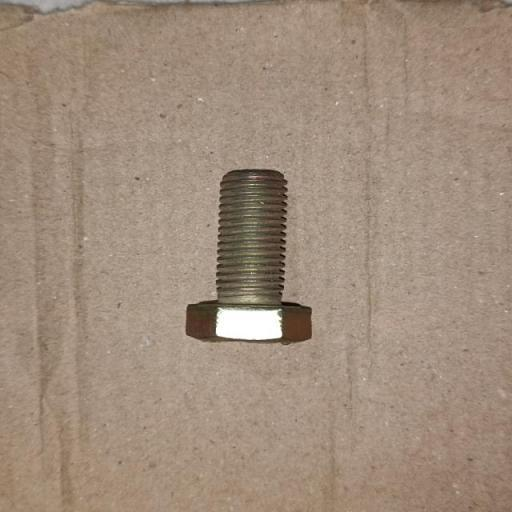Bolt: (185, 169, 312, 345)
